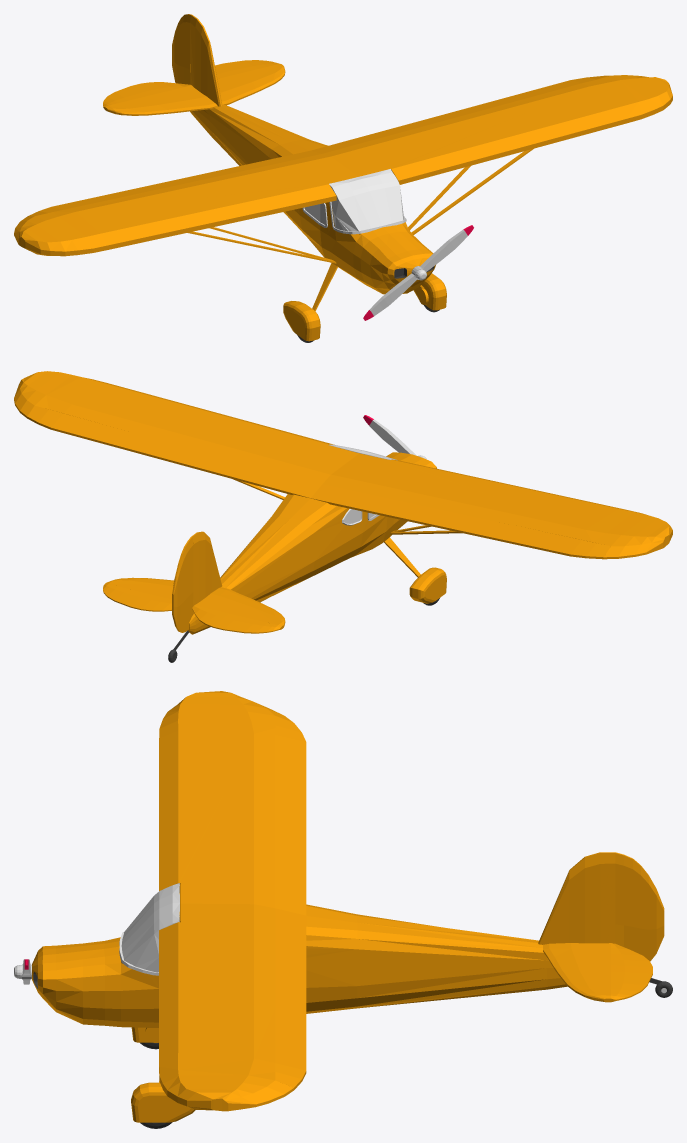
File: cessna_140.fbx
The picture shows the model from 3 angles, top to bottom: view 1: azimuth 30°, elevation 25°; view 2: azimuth 150°, elevation 25°; view 3: azimuth 270°, elevation 25°; orthographic projection. The views are drawn at different scales.
Visible parts, largest first — view 1: Fuselage.001, Elevator.002, Propeller.001, Rudder.001, Aileron L.001, Aileron R.001; view 2: Fuselage.001, Elevator.002, Aileron L.001, Aileron R.001, Rudder.001, Propeller.001; view 3: Fuselage.001, Rudder.001, Aileron R.001, Aileron L.001, Elevator.002.
Boxes of the visible parts, bbox=[...] form: Fuselage.001: bbox=[14, 15, 672, 342]; Elevator.002: bbox=[103, 60, 280, 109]; Propeller.001: bbox=[363, 225, 473, 320]; Rudder.001: bbox=[172, 14, 191, 84]; Aileron L.001: bbox=[477, 75, 609, 108]; Aileron R.001: bbox=[27, 186, 156, 216]; Fuselage.001: bbox=[14, 371, 672, 662]; Elevator.002: bbox=[103, 583, 281, 633]; Aileron L.001: bbox=[27, 405, 156, 454]; Aileron R.001: bbox=[476, 520, 610, 559]; Rudder.001: bbox=[172, 536, 193, 632]; Propeller.001: bbox=[363, 415, 426, 459]; Fuselage.001: bbox=[32, 691, 672, 1128]; Rudder.001: bbox=[615, 852, 664, 961]; Aileron R.001: bbox=[275, 716, 306, 804]; Aileron L.001: bbox=[275, 1007, 306, 1089]; Elevator.002: bbox=[611, 943, 652, 1002].
Bounding box in the file's own units: 997 × 269 × 681.
